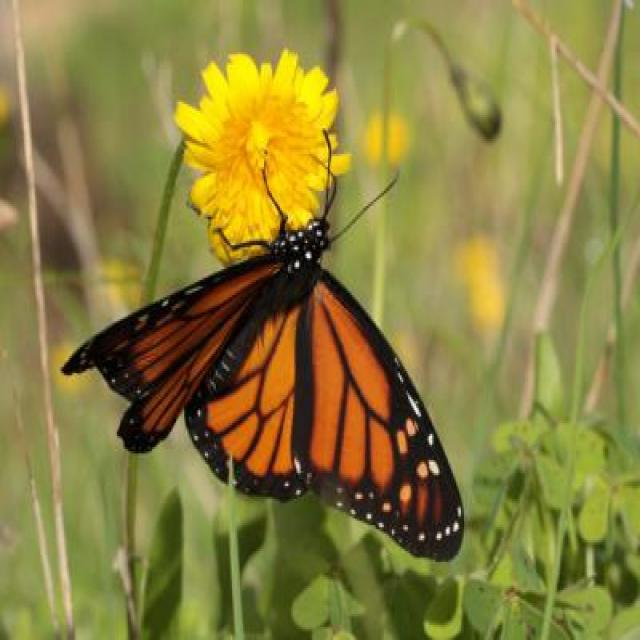antennae: (317, 129, 412, 248)
body: (194, 219, 329, 403)
insect: (56, 133, 466, 569)
legs: (206, 136, 332, 250)
wings: (188, 280, 461, 562), (62, 251, 276, 454)
